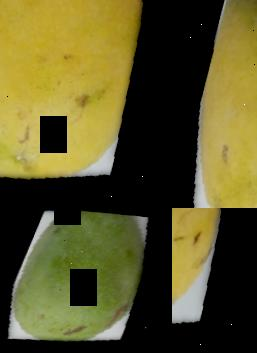Ripe: (0, 0, 172, 208), (172, 0, 257, 208), (172, 208, 257, 353)
Unripe: (0, 208, 172, 353)
